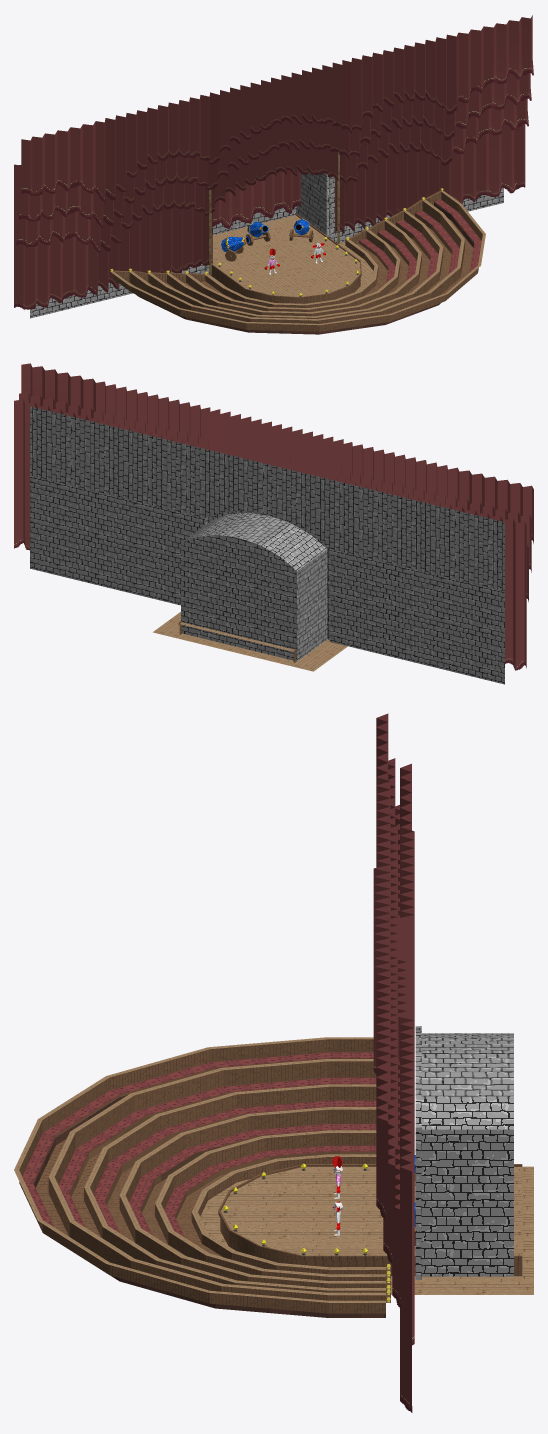
Rendered from Palhaço.glb.
3 views of the same model, one above another, from view 1: azimuth 30°, elevation 25°; view 2: azimuth 150°, elevation 25°; view 3: azimuth 270°, elevation 25° (orthographic). The views are drawn at different scales.
Visible parts, largest first — view 1: Curtinas, Cadeiras, Palco, Parede, Codas, Canhão3, Piso, Canhão2; view 2: Parede, Curtinas, Piso, Palco; view 3: Cadeiras, Parede, Curtinas, Palco, Piso.
Part boxes in pixels (<box>): Curtinas: <box>14,15,533,309</box>; Cadeiras: <box>110,188,485,334</box>; Palco: <box>211,213,361,303</box>; Parede: <box>30,170,503,318</box>; Codas: <box>209,152,339,275</box>; Canhão3: <box>220,236,249,261</box>; Piso: <box>211,242,373,291</box>; Canhão2: <box>246,221,270,245</box>; Parede: <box>30,406,504,684</box>; Curtinas: <box>14,363,533,670</box>; Piso: <box>153,612,347,671</box>; Palco: <box>178,621,296,662</box>; Cadeiras: <box>14,1037,390,1317</box>; Parede: <box>415,1026,513,1279</box>; Curtinas: <box>373,713,414,1412</box>; Palco: <box>218,1164,522,1276</box>; Piso: <box>200,1166,533,1294</box>.
Bounding box in the file's own units: 43.84 × 15.76 × 23.61.
15 materials, 14 textured.
